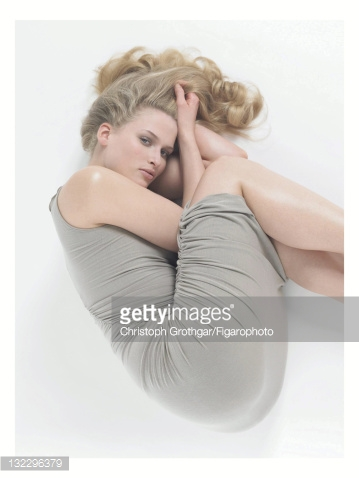deitado: (49, 95, 340, 391)
